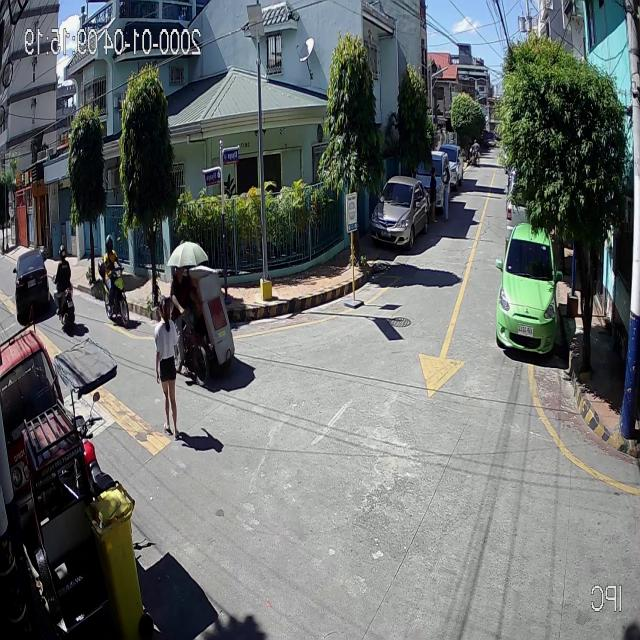standing: (439, 166, 452, 221), (427, 166, 438, 223), (472, 139, 480, 165)
walking: (154, 296, 181, 442)
